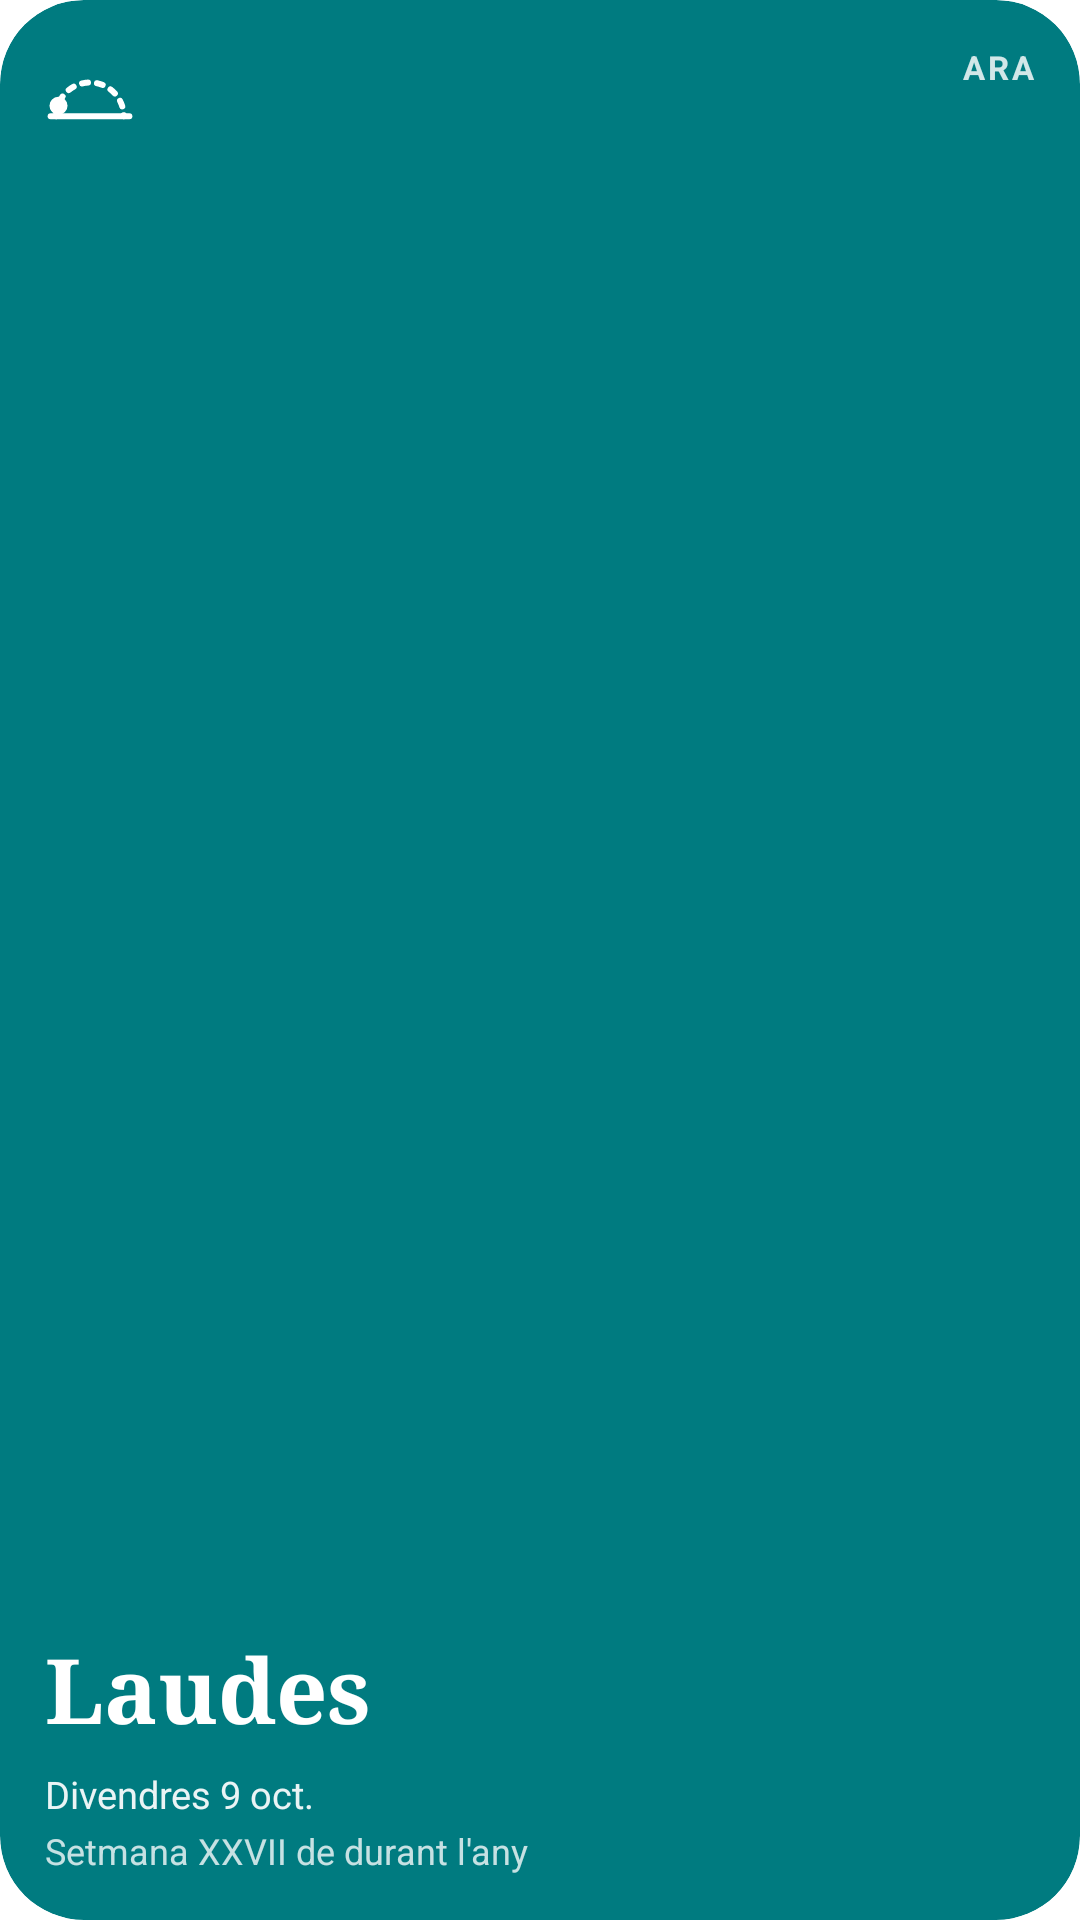

Icons on this 1080 × 1920 Android screen, each with its box as (x1, y1, x2, y2):
hour laudes: (47, 79, 133, 120)
